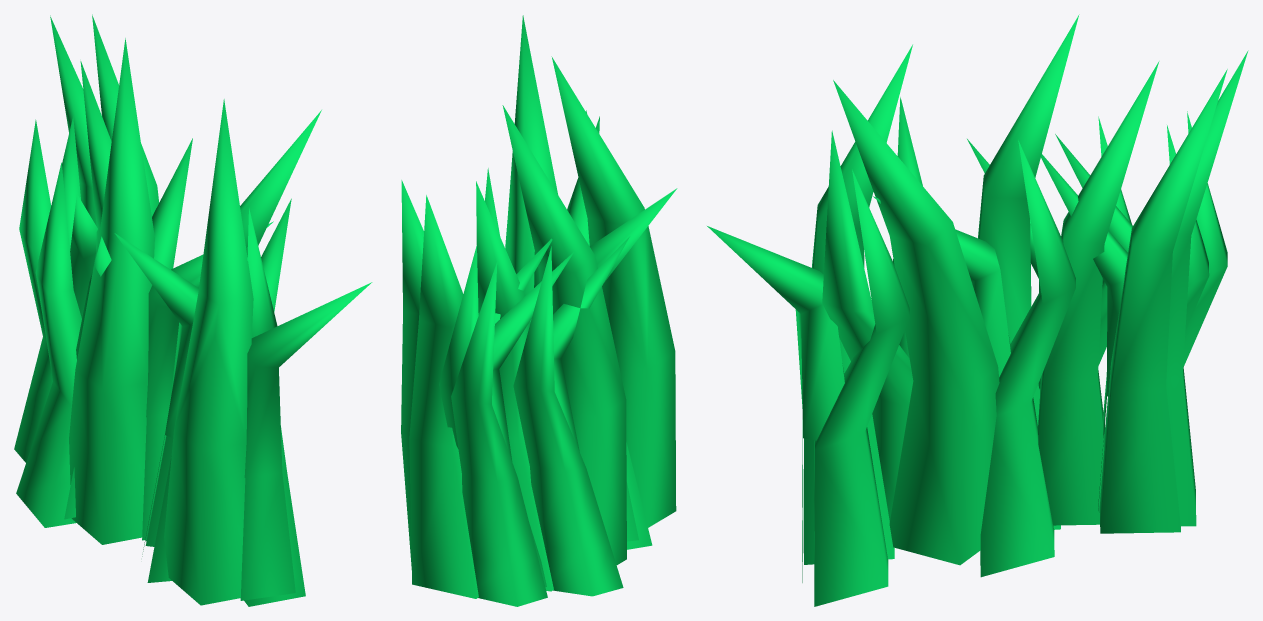
Rendered from grass_pile.fbx.
The picture shows the model from 3 angles, left to right: view 1: azimuth 30°, elevation 25°; view 2: azimuth 150°, elevation 25°; view 3: azimuth 270°, elevation 25°; orthographic projection. The views are drawn at different scales.
Visible parts, largest first — view 1: grass8; view 2: grass8; view 3: grass8.
Part boxes in pixels (left/top/right/bottom): grass8: left=14, top=14, right=372, bottom=606; grass8: left=401, top=15, right=677, bottom=606; grass8: left=707, top=14, right=1248, bottom=606.
Size of the model in its own units: 2.83 by 7.09 by 6.25.
